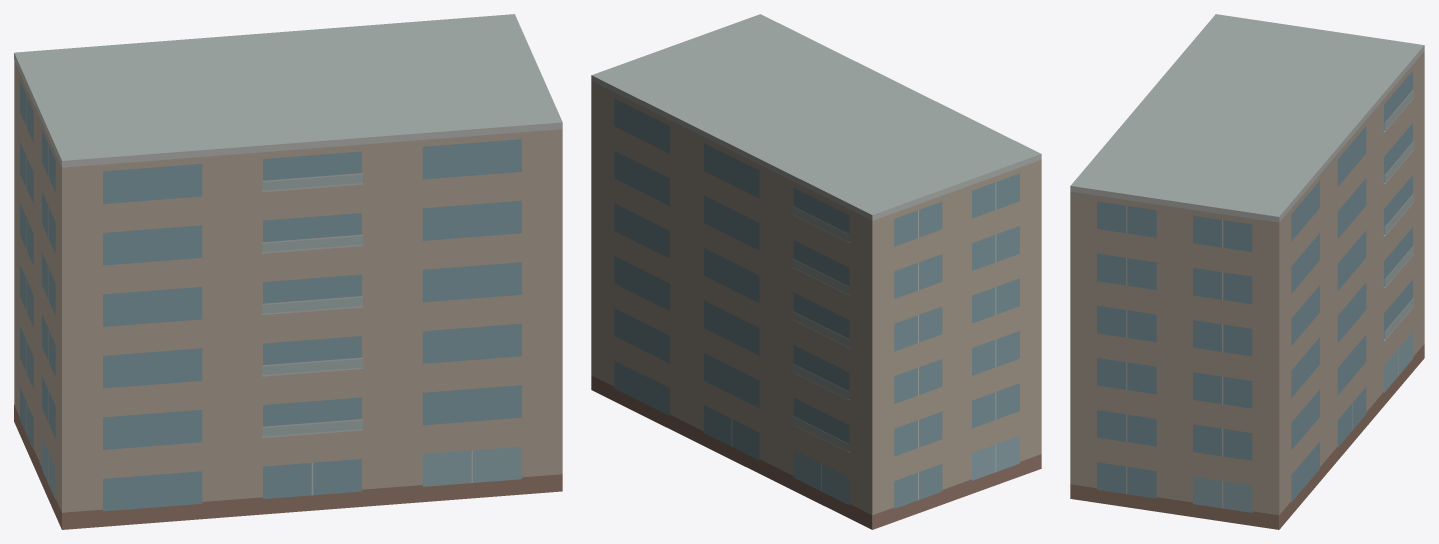
Rendered from survey-upis-32884213.glb.
3 views of the same model, side by side, from view 1: azimuth 30°, elevation 25°; view 2: azimuth 150°, elevation 25°; view 3: azimuth 270°, elevation 25° (orthographic). The views are drawn at different scales.
Parts seen in each view (by area): view 1: survey-upis-32884213.tmp; view 2: survey-upis-32884213.tmp; view 3: survey-upis-32884213.tmp.
Part boxes in pixels (x1,y1,x2,y2): survey-upis-32884213.tmp: [14, 14, 562, 529]; survey-upis-32884213.tmp: [591, 14, 1041, 529]; survey-upis-32884213.tmp: [1070, 14, 1424, 529].
Bounding box in the file's own units: 18.5 × 13.3 × 13.65.
